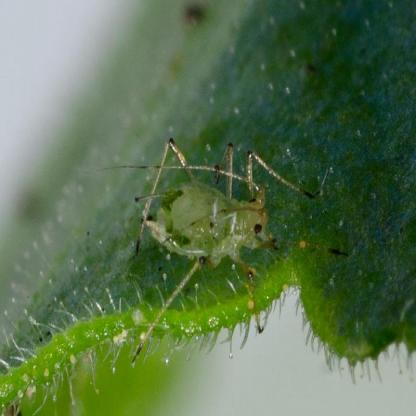aphid: (121, 122, 304, 331)
